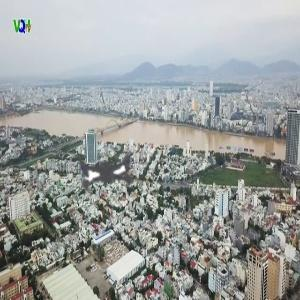drone: (42, 106, 179, 243)
